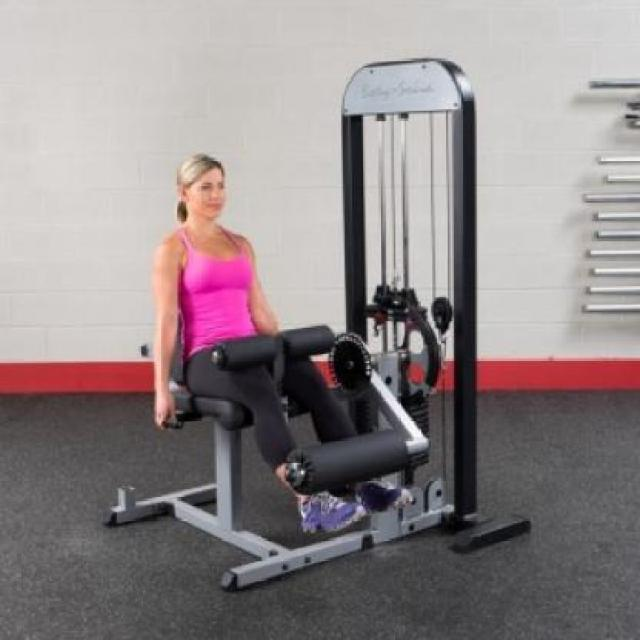leg extension: (88, 52, 540, 611)
